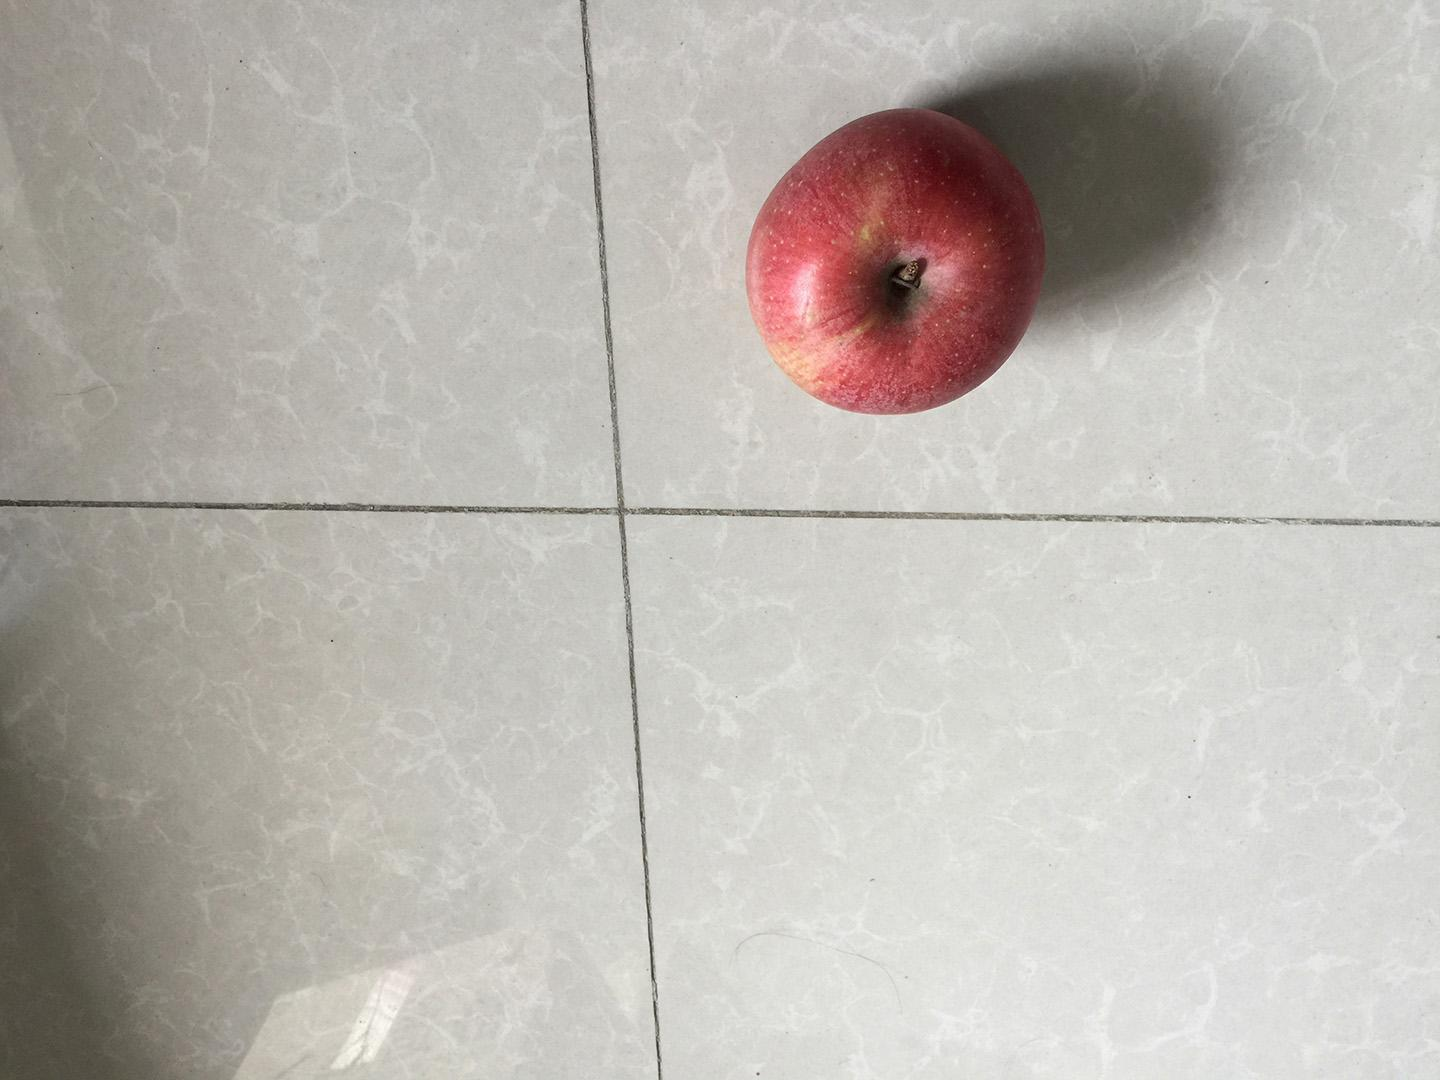apple: (738, 104, 1054, 419)
